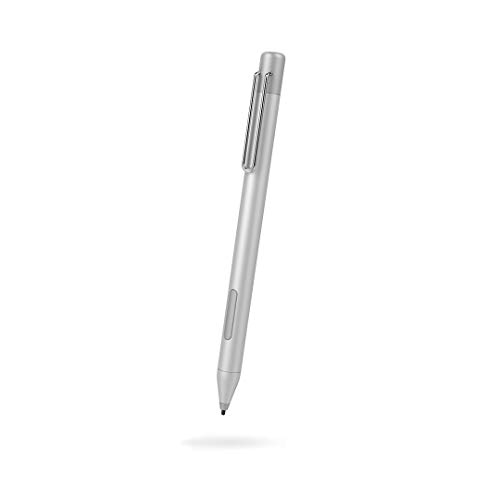Boligrafo: (215, 47, 290, 417)
